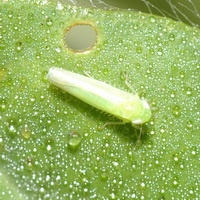insect: (47, 67, 150, 123)
